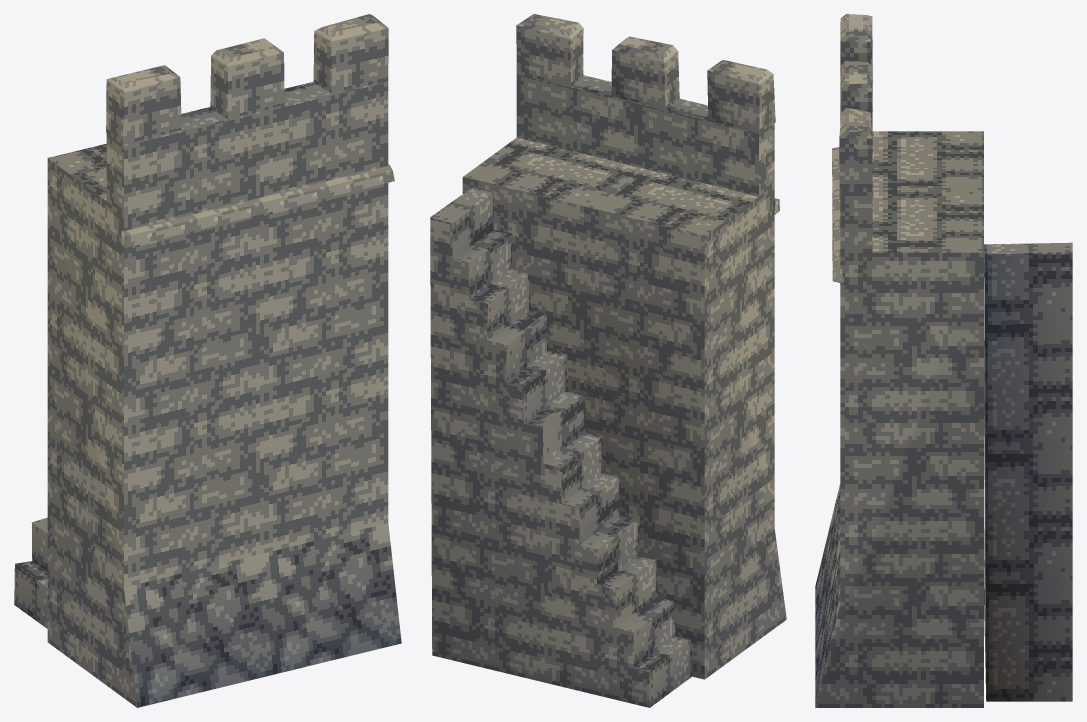
File: cst.curtain__stair.glb
3 renders of one model, left to right at view 1: azimuth 30°, elevation 25°; view 2: azimuth 150°, elevation 25°; view 3: azimuth 270°, elevation 25°, orthographic. The views are drawn at different scales.
Parts seen in each view (by area): view 1: kit_wall, kit_top, kit_detail; view 2: kit_wall, kit_detail, kit_top; view 3: kit_wall, kit_detail, kit_top.
Part boxes in pixels (bbox=[...]): kit_wall: bbox=[47, 81, 401, 707]; kit_top: bbox=[106, 14, 388, 144]; kit_detail: bbox=[14, 164, 394, 628]; kit_wall: bbox=[462, 74, 786, 679]; kit_detail: bbox=[430, 187, 779, 707]; kit_top: bbox=[516, 14, 775, 133]; kit_wall: bbox=[815, 68, 983, 707]; kit_detail: bbox=[832, 147, 1072, 701]; kit_top: bbox=[839, 14, 872, 187].
Bounding box in the file's own units: 4.07 × 8.85 × 3.59.
Materials: 4 (4 with a texture image).
